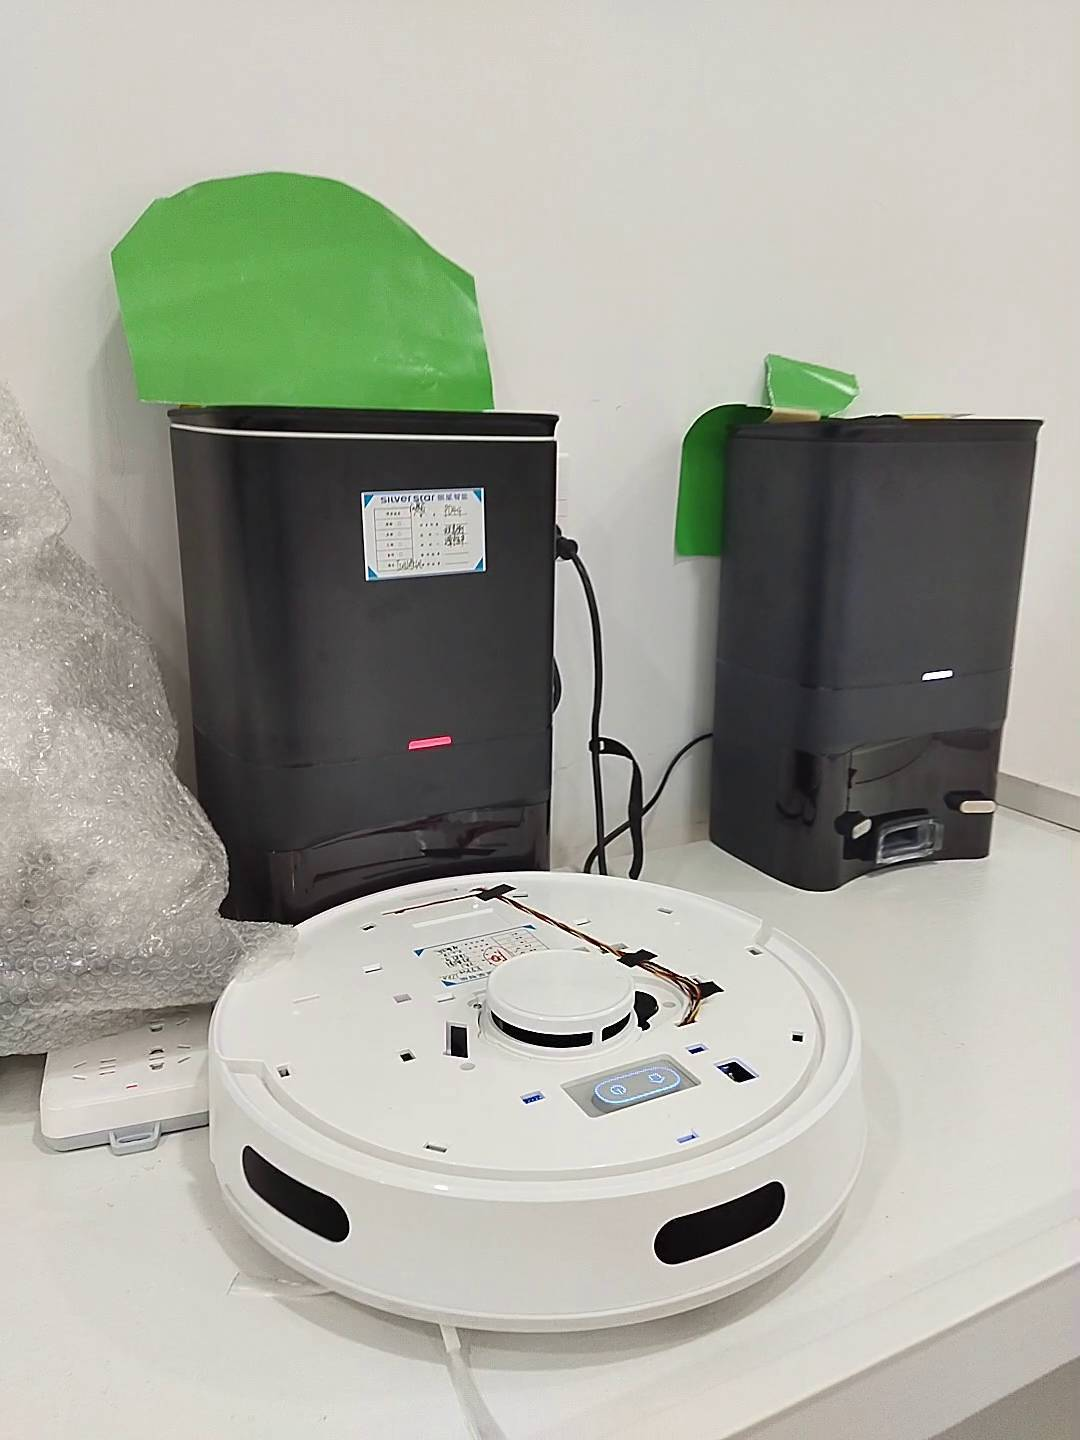dust collecting barrel: (164, 403, 564, 925), (710, 415, 1049, 899)
